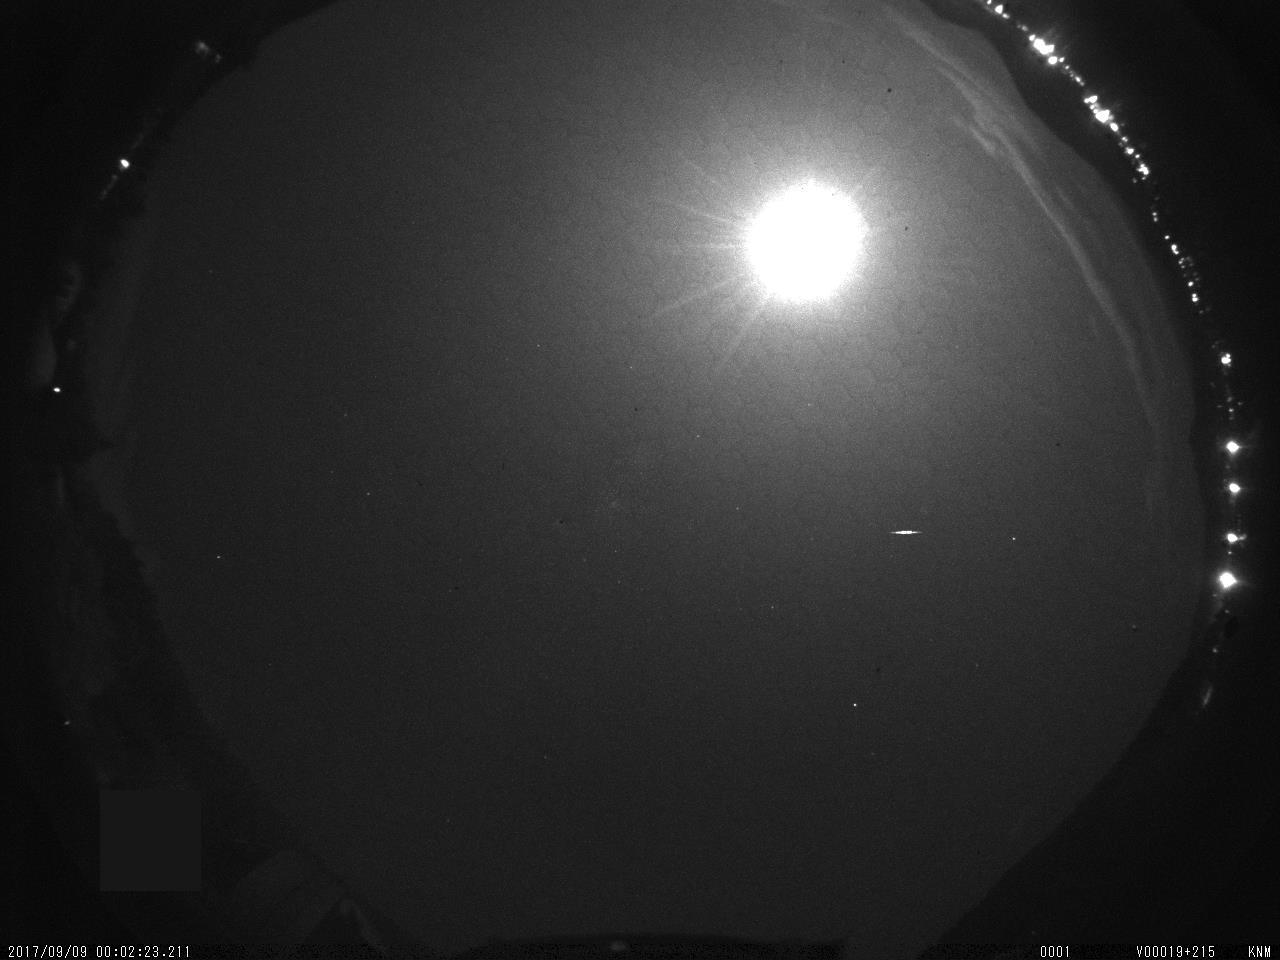meteor: (882, 517, 931, 547)
